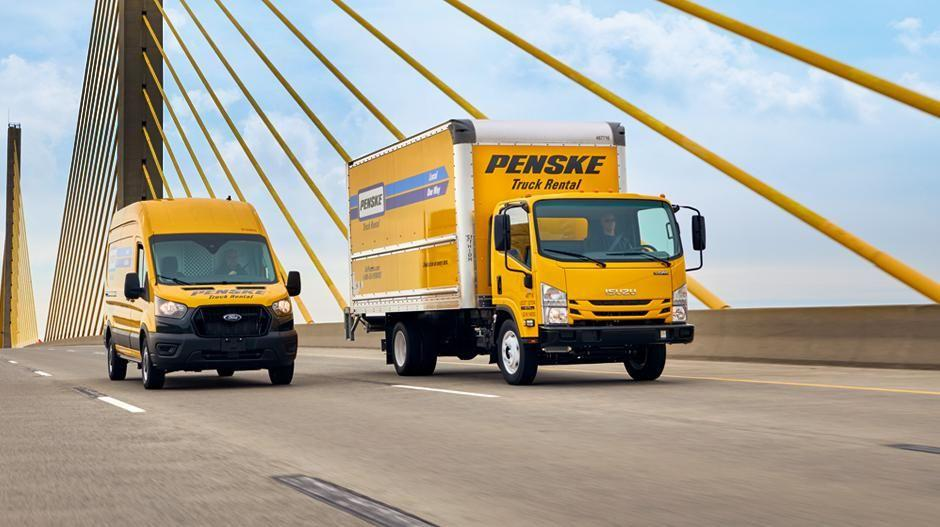truck: (344, 118, 707, 386)
van: (102, 198, 302, 390)
